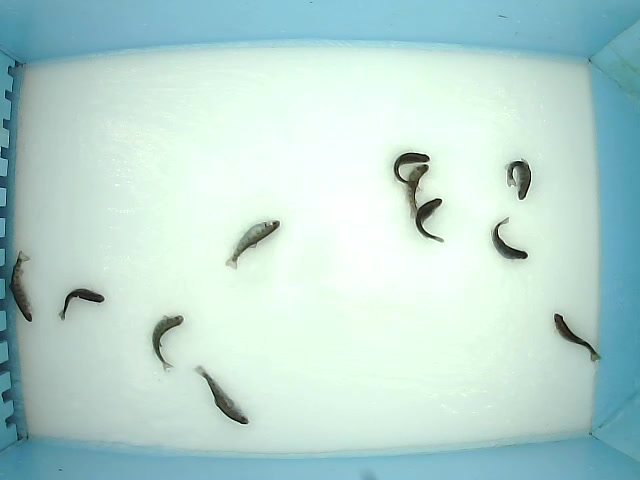fish: (193, 364, 250, 425), (225, 219, 280, 271), (553, 313, 601, 363), (7, 249, 35, 324), (150, 314, 185, 373), (490, 217, 528, 262), (58, 288, 106, 322), (405, 164, 430, 221), (416, 197, 444, 243), (393, 151, 430, 185), (504, 157, 531, 201)
